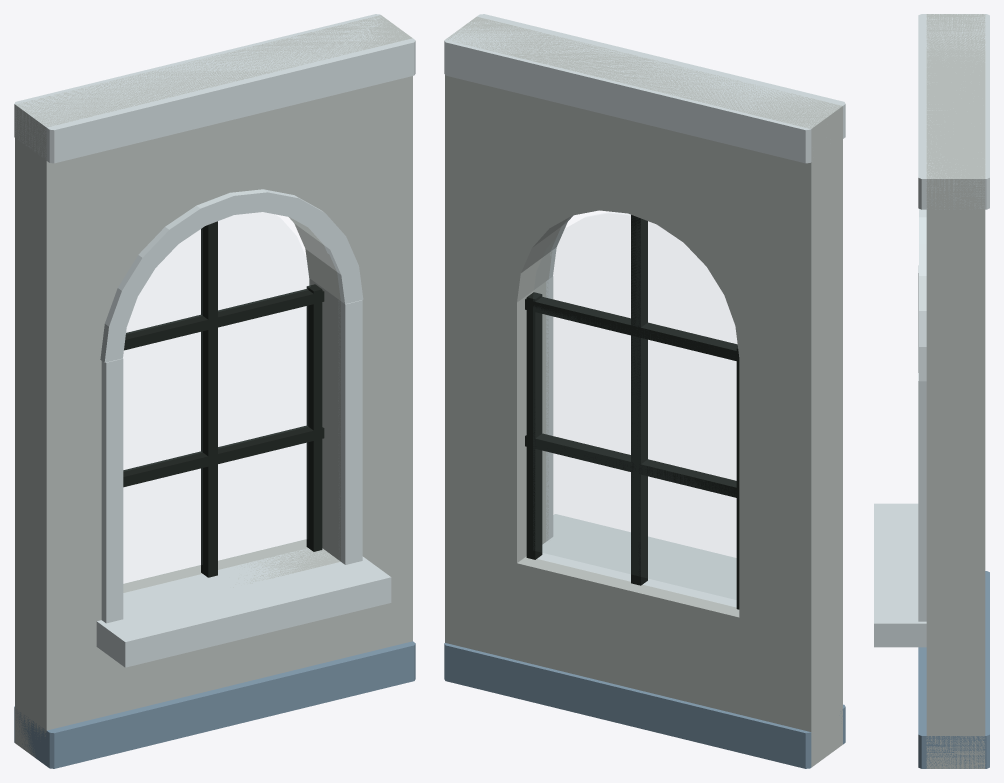
The model's file is gh_facade_bay_v01.glb.
3 renders of one model, left to right at view 1: azimuth 30°, elevation 25°; view 2: azimuth 150°, elevation 25°; view 3: azimuth 270°, elevation 25°, orthographic. The views are drawn at different scales.
Visible parts, largest first — view 1: facade; view 2: facade; view 3: facade.
Part boxes in pixels (x1=…): facade: x1=14, y1=14, x2=415, y2=768; facade: x1=444, y1=14, x2=845, y2=768; facade: x1=874, y1=14, x2=989, y2=768.
Size of the model in its own units: 3 by 5 by 0.89.
2 materials, 1 textured.
